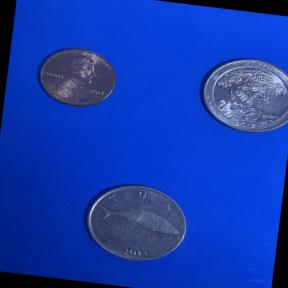Croatia-2Kune-B: (71, 173, 200, 276)
US-1cent-B: (25, 37, 130, 119)
US-25cent-B: (185, 44, 288, 147)
